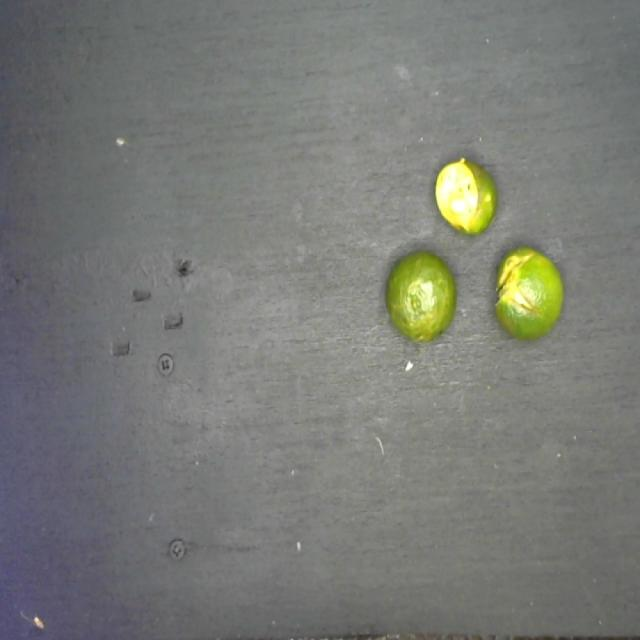biodegradable: (383, 144, 570, 352)
